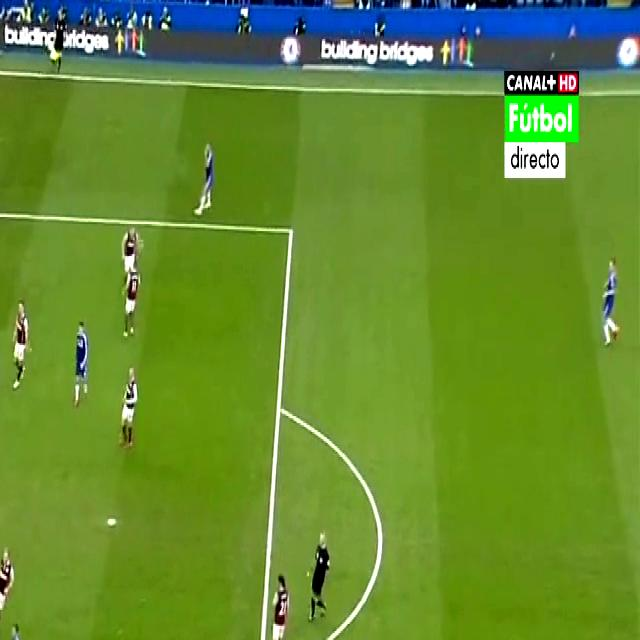referee: (304, 515, 334, 640), (45, 7, 68, 79)
soccer-player: (594, 242, 624, 354), (67, 309, 97, 413), (191, 126, 224, 216), (113, 360, 143, 457), (7, 289, 34, 395), (116, 243, 142, 345), (268, 554, 290, 640), (0, 533, 12, 640), (0, 618, 26, 640)
